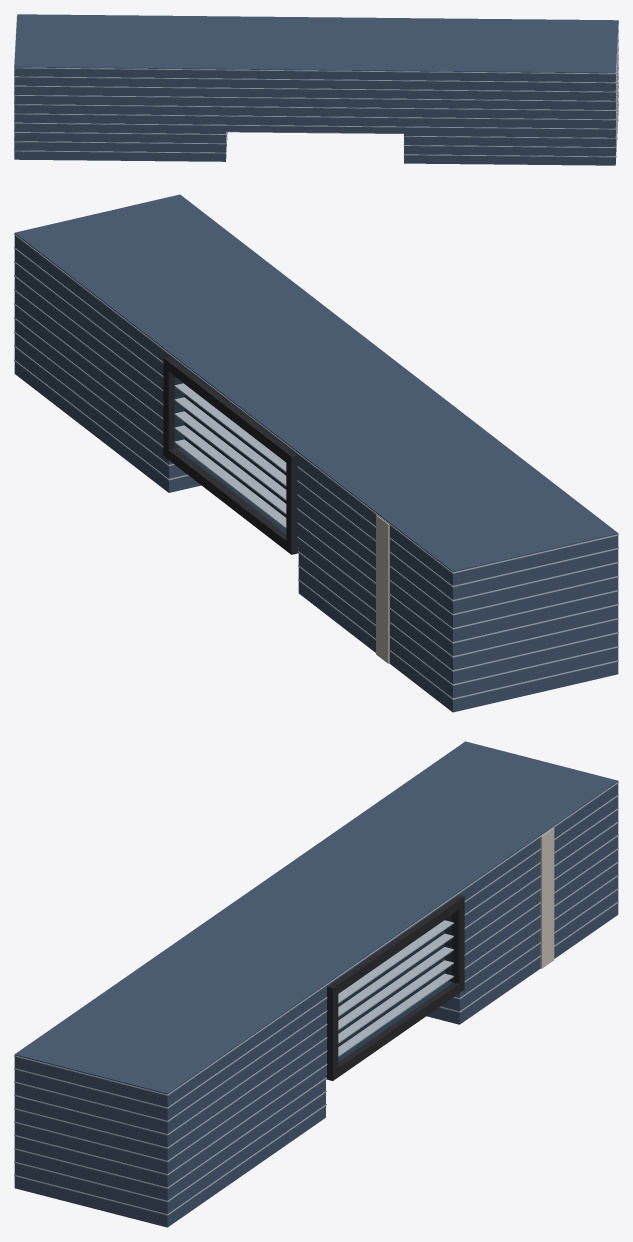
The model's file is city-hall.glb.
3 views of the same model, one above another, from view 1: azimuth 30°, elevation 25°; view 2: azimuth 150°, elevation 25°; view 3: azimuth 270°, elevation 25° (orthographic). The views are drawn at different scales.
Visible parts, largest first — view 1: city-hall; view 2: city-hall; view 3: city-hall.
Boxes of the visible parts, x1=… form: city-hall: x1=14, y1=14, x2=618, y2=165; city-hall: x1=14, y1=194, x2=618, y2=712; city-hall: x1=14, y1=741, x2=618, y2=1227.
Bounding box in the file's own units: 244 × 43.2 × 177.
